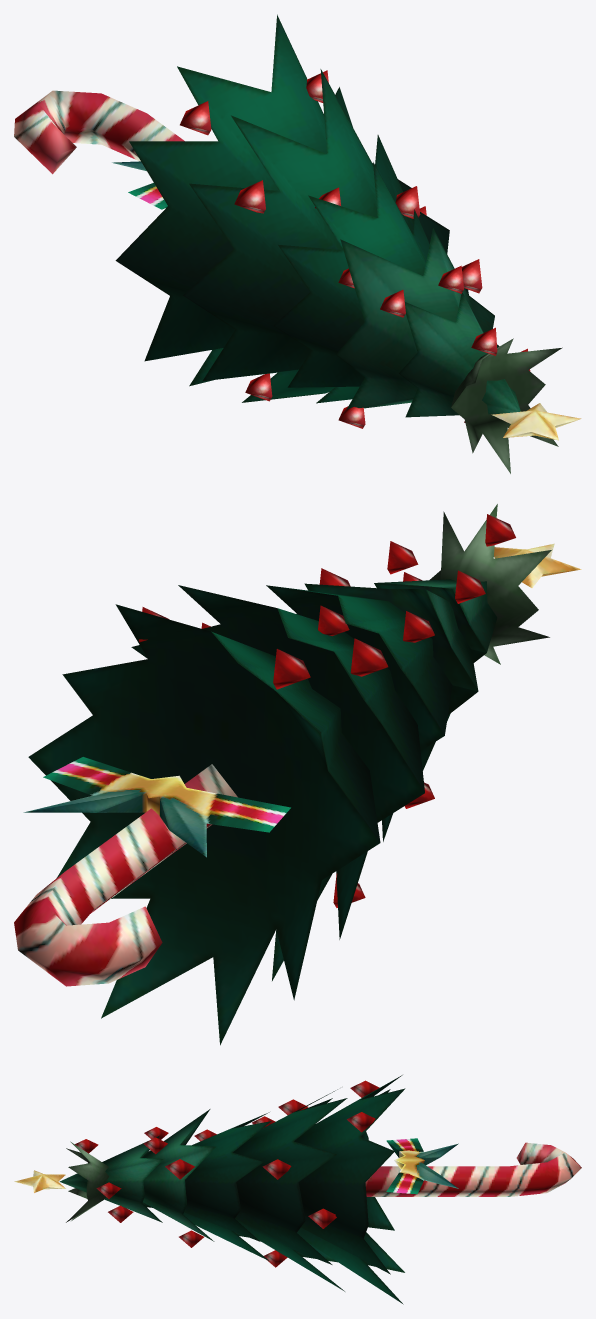
The model's file is sword0041.fbx.
3 renders of one model, top to bottom at view 1: azimuth 30°, elevation 25°; view 2: azimuth 150°, elevation 25°; view 3: azimuth 270°, elevation 25°, orthographic. The views are drawn at different scales.
Visible parts, largest first — view 1: sword0041; view 2: sword0041; view 3: sword0041.
Part boxes in pixels (x1,y1,x2,y2): sword0041: (14,14,581,473); sword0041: (14,504,581,1045); sword0041: (14,1075,581,1304).
Bounding box in the file's own units: 0.4097 × 0.4664 × 1.13.
Materials: 1 (1 with a texture image).
